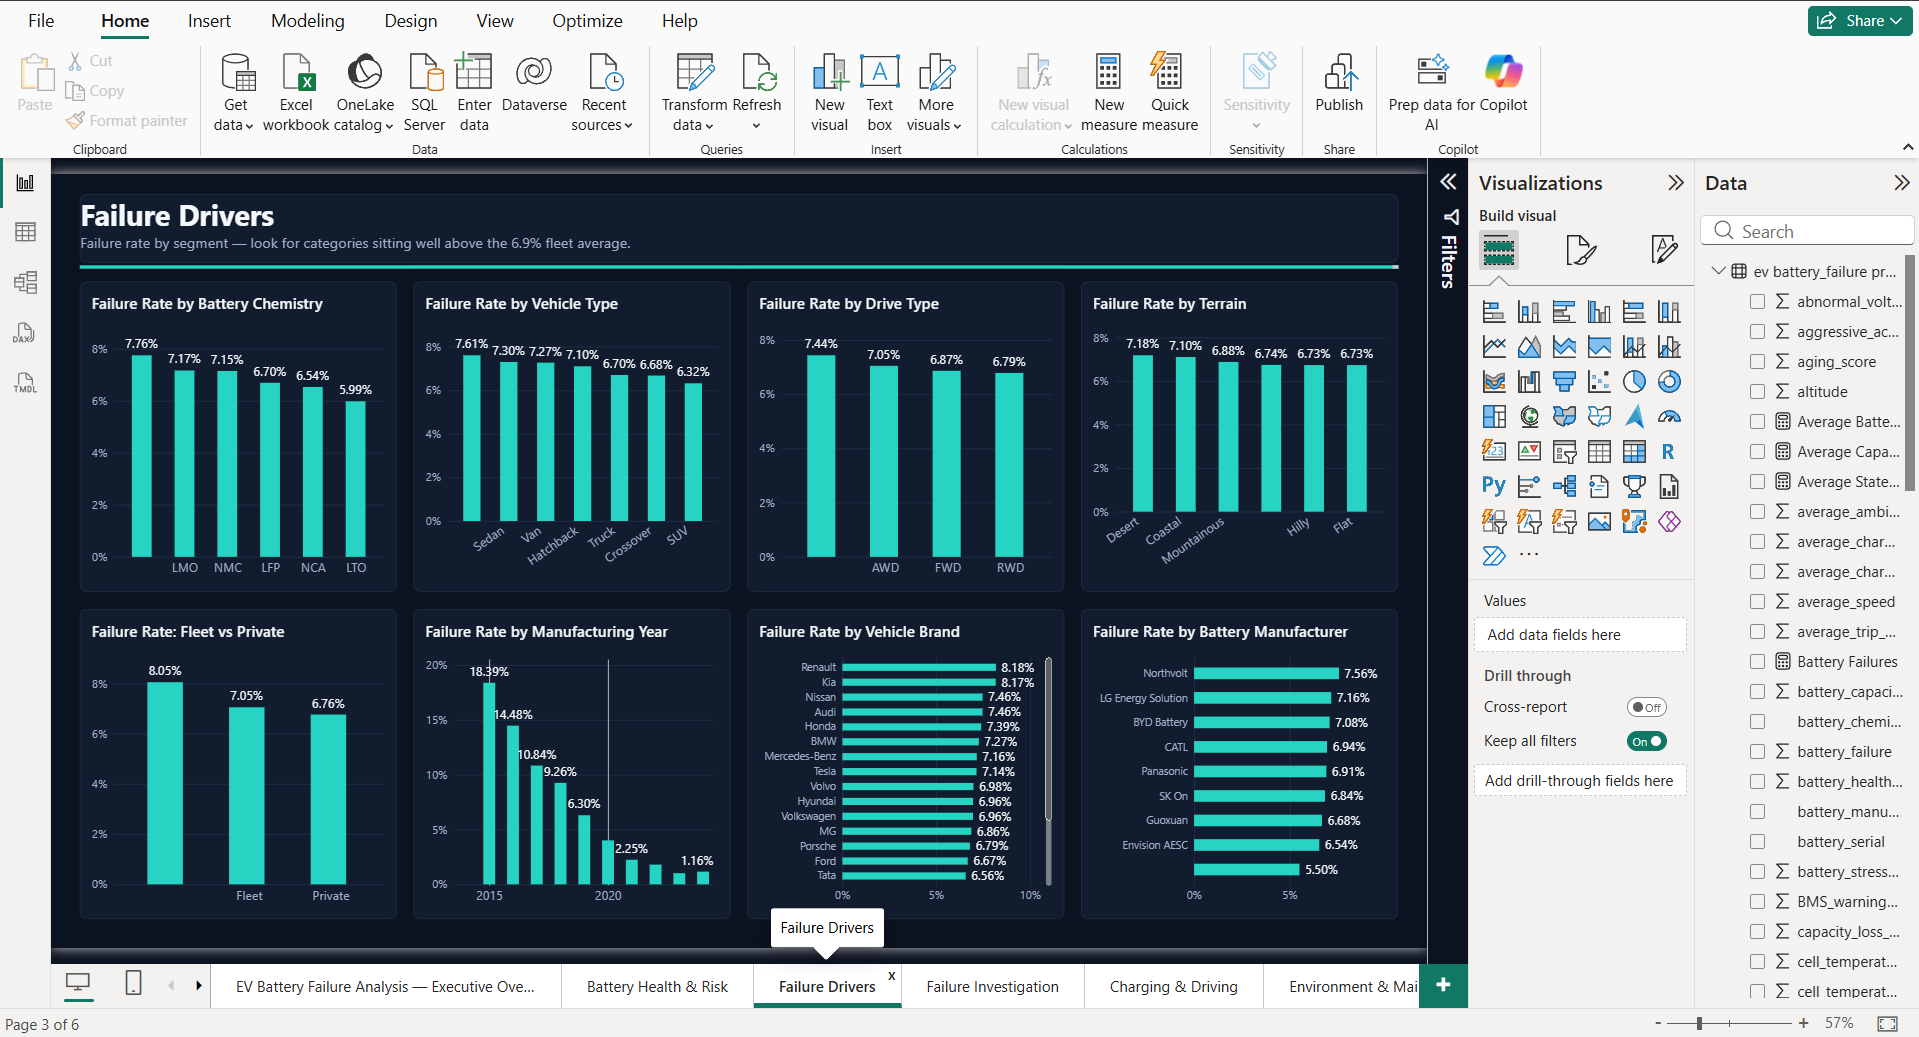

Layout of this report page (visuals, bound fields, positions):
{"tool":"powerbi","page":{"name":"Failure Drivers","canvas":[1920,1080],"ordinal":2},"visuals":[{"type":"clusteredColumnChart","title":"Failure Rate by Battery Chemistry","fields":{"Category":["ev battery_failure prediction Dataset.battery_chemistry"],"Y":["ev battery_failure prediction Dataset.Failure Rate"]},"box":[40,150,442,433],"z":1},{"type":"textbox","box":[40,28,1840,96],"z":2},{"type":"clusteredColumnChart","title":"Failure Rate by Vehicle Type","fields":{"Category":["ev battery_failure prediction Dataset.vehicle_type"],"Y":["ev battery_failure prediction Dataset.Failure Rate"]},"box":[506,150,442,433],"z":2},{"type":"clusteredColumnChart","title":"Failure Rate by Drive Type","fields":{"Category":["ev battery_failure prediction Dataset.drive_type"],"Y":["ev battery_failure prediction Dataset.Failure Rate"]},"box":[972,150,442,433],"z":3},{"type":"clusteredColumnChart","title":"Failure Rate by Terrain","fields":{"Category":["ev battery_failure prediction Dataset.terrain_type"],"Y":["ev battery_failure prediction Dataset.Failure Rate"]},"box":[1438,150,442,433],"z":4},{"type":"clusteredColumnChart","title":"Failure Rate: Fleet vs Private","fields":{"Category":["ev battery_failure prediction Dataset.fleet_or_private"],"Y":["ev battery_failure prediction Dataset.Failure Rate"]},"box":[40,607,442,433],"z":5},{"type":"clusteredColumnChart","title":"Failure Rate by Manufacturing Year","fields":{"Category":["ev battery_failure prediction Dataset.manufacturing_year"],"Y":["ev battery_failure prediction Dataset.Failure Rate"]},"box":[506,607,442,433],"z":6},{"type":"clusteredBarChart","title":"Failure Rate by Vehicle Brand","fields":{"Category":["ev battery_failure prediction Dataset.vehicle_brand"],"Y":["ev battery_failure prediction Dataset.Failure Rate"]},"box":[972,607,442,433],"z":7},{"type":"clusteredBarChart","title":"Failure Rate by Battery Manufacturer","fields":{"Category":["ev battery_failure prediction Dataset.battery_manufacturer"],"Y":["ev battery_failure prediction Dataset.Failure Rate"]},"box":[1438,607,442,433],"z":8},{"type":"textbox","box":[40,128,1840,5],"z":50}]}

Visuals, with their boxes on the page's 1920x1080 design canvas (x1, y1, x2, y2). These are canvas units, not pixel positions in the 1919x1037 screenshot, which may show the page scaled, cropped or inside an application window:
"Failure Rate by Battery Chemistry" clusteredColumnChart: region(40, 150, 482, 583)
textbox: region(40, 28, 1880, 124)
"Failure Rate by Vehicle Type" clusteredColumnChart: region(506, 150, 948, 583)
"Failure Rate by Drive Type" clusteredColumnChart: region(972, 150, 1414, 583)
"Failure Rate by Terrain" clusteredColumnChart: region(1438, 150, 1880, 583)
"Failure Rate: Fleet vs Private" clusteredColumnChart: region(40, 607, 482, 1040)
"Failure Rate by Manufacturing Year" clusteredColumnChart: region(506, 607, 948, 1040)
"Failure Rate by Vehicle Brand" clusteredBarChart: region(972, 607, 1414, 1040)
"Failure Rate by Battery Manufacturer" clusteredBarChart: region(1438, 607, 1880, 1040)
textbox: region(40, 128, 1880, 133)
